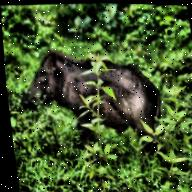boar: (10, 38, 184, 167)
